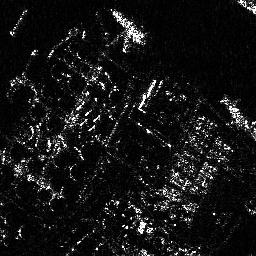ship: (107, 8, 148, 44), (218, 93, 250, 130), (9, 8, 28, 37)
